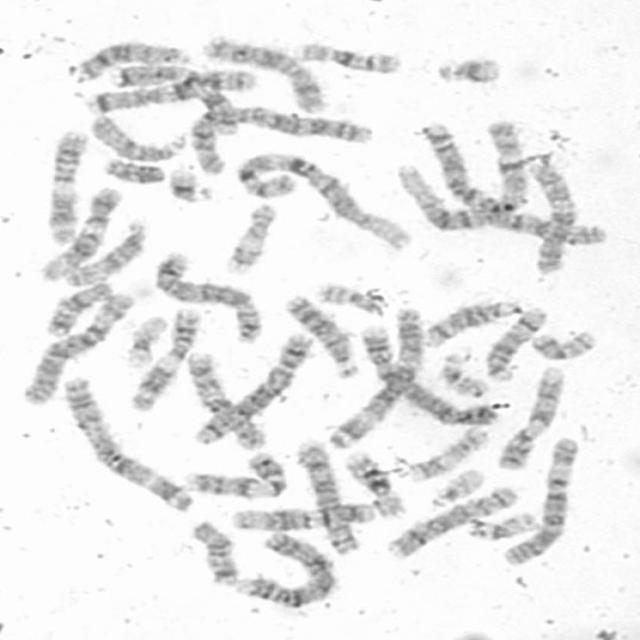A1: (235, 151, 412, 251), (396, 118, 529, 232)
A2: (420, 121, 608, 246), (188, 105, 373, 175)
A3: (61, 375, 194, 513), (328, 308, 426, 450)
B4: (358, 324, 499, 428), (235, 532, 338, 608)
B5: (193, 332, 314, 444), (153, 250, 262, 344)
C10: (185, 352, 267, 450), (528, 163, 578, 273)
C11: (129, 308, 201, 412), (48, 130, 90, 246)
C12: (42, 187, 125, 282), (231, 501, 378, 531)
C6: (23, 293, 136, 406), (502, 436, 579, 566)
C7: (109, 64, 240, 136), (86, 68, 256, 115)
C8: (386, 484, 518, 560), (294, 443, 360, 554)
C9: (498, 365, 566, 470), (184, 452, 287, 498)
D13: (284, 294, 360, 380), (68, 42, 193, 83)
D14: (422, 300, 524, 348), (484, 306, 548, 382)
D15: (65, 223, 147, 287), (89, 115, 189, 163)
E16: (343, 452, 407, 521), (293, 42, 402, 73)
E17: (407, 427, 488, 482), (225, 202, 279, 275)
E18: (46, 282, 115, 338), (190, 518, 237, 587)
F19: (125, 314, 168, 368), (466, 511, 540, 541)
F20: (316, 282, 390, 317), (530, 330, 597, 361)
G21: (169, 162, 214, 202), (438, 58, 500, 83)
G22: (438, 349, 489, 398), (430, 468, 486, 508)
X: (201, 34, 325, 114)
Y: (103, 156, 166, 184)
